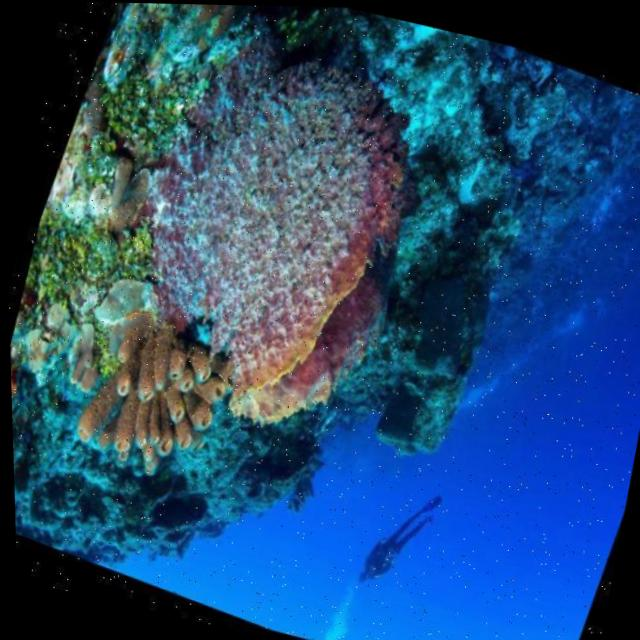Healthy Coral: (0, 0, 472, 576)
